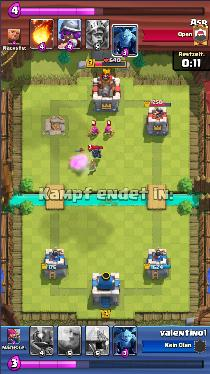enemy_archer: (103, 124, 113, 137), (88, 127, 100, 137)
enemy_mini_pekka: (91, 147, 102, 159)
